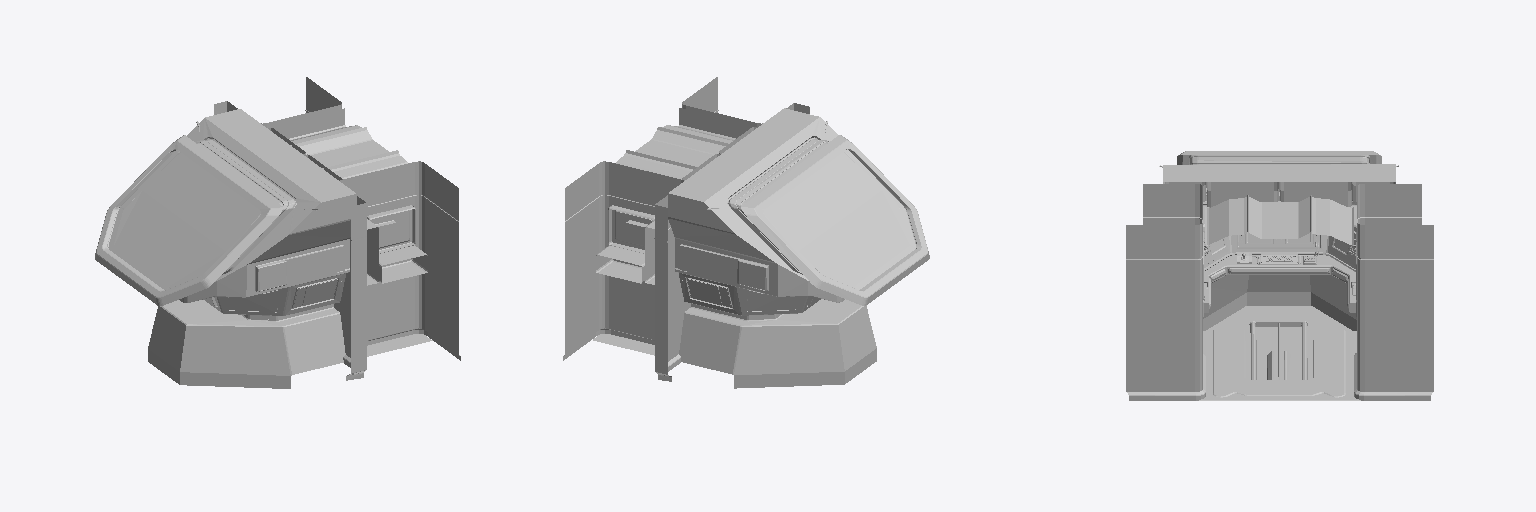
The model's file is front_g.obj.
3 renders of one model, left to right at view 1: azimuth 30°, elevation 25°; view 2: azimuth 150°, elevation 25°; view 3: azimuth 270°, elevation 25°, orthographic.
Visible parts, largest first — view 1: entry_6024_pkOBJ_entry_6024_pkOBJ.001, entry_6030_pkOBJ, entry_6036_pkOBJ, entry_6033_pkOBJ, entry_6028_pkOBJ, entry_6034_pkOBJ; view 2: entry_6024_pkOBJ_entry_6024_pkOBJ.001, entry_6030_pkOBJ, entry_6036_pkOBJ, entry_6033_pkOBJ, entry_6028_pkOBJ, entry_6034_pkOBJ; view 3: entry_6024_pkOBJ_entry_6024_pkOBJ.001, entry_6030_pkOBJ, entry_6033_pkOBJ, entry_6029_pkOBJ, entry_6025_pkOBJ, entry_6028_pkOBJ, entry_6034_pkOBJ.
Boxes of the visible parts, <box> form: entry_6024_pkOBJ_entry_6024_pkOBJ.001: <box>148,108,432,388</box>; entry_6030_pkOBJ: <box>214,77,460,380</box>; entry_6036_pkOBJ: <box>108,150,260,289</box>; entry_6033_pkOBJ: <box>95,118,320,305</box>; entry_6028_pkOBJ: <box>204,278,338,309</box>; entry_6034_pkOBJ: <box>107,140,287,289</box>; entry_6024_pkOBJ_entry_6024_pkOBJ.001: <box>593,108,876,388</box>; entry_6030_pkOBJ: <box>563,77,809,381</box>; entry_6036_pkOBJ: <box>763,149,915,289</box>; entry_6033_pkOBJ: <box>704,117,929,305</box>; entry_6028_pkOBJ: <box>685,277,819,309</box>; entry_6034_pkOBJ: <box>736,140,916,289</box>; entry_6024_pkOBJ_entry_6024_pkOBJ.001: <box>1163,164,1395,400</box>; entry_6030_pkOBJ: <box>1126,184,1433,400</box>; entry_6033_pkOBJ: <box>1177,151,1381,196</box>; entry_6029_pkOBJ: <box>1257,340,1301,379</box>; entry_6025_pkOBJ: <box>1209,268,1348,308</box>; entry_6028_pkOBJ: <box>1237,232,1321,261</box>; entry_6034_pkOBJ: <box>1189,155,1369,163</box>.
Size of the model in its own units: 58.39 by 40.69 by 59.85.